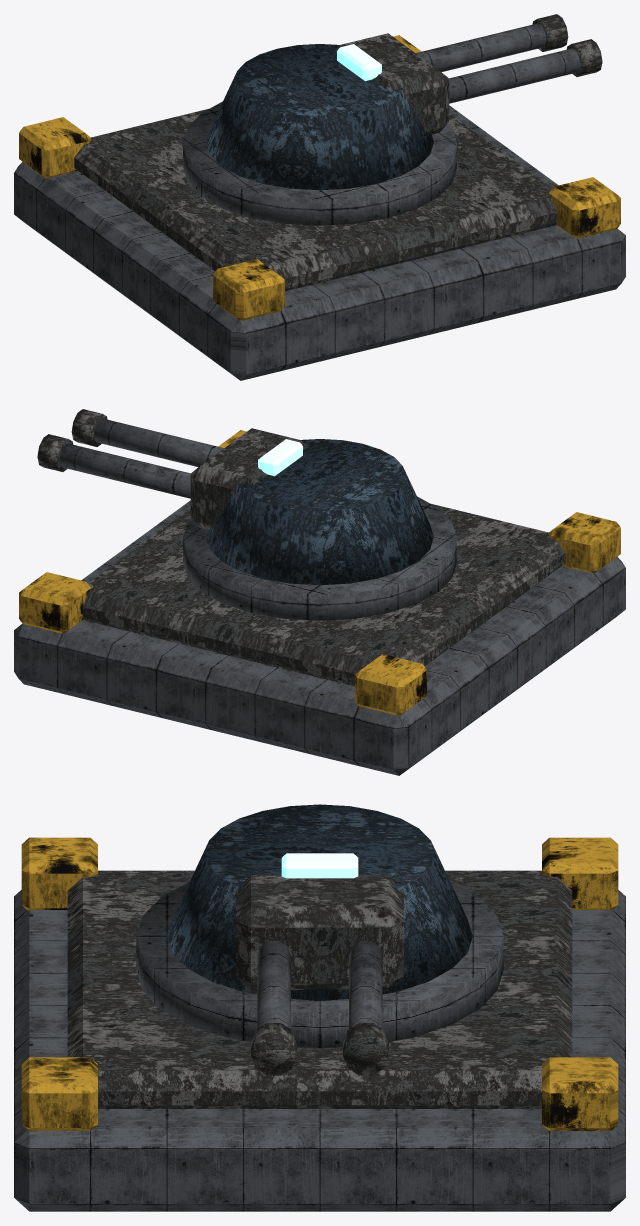
File: tower.glb
The picture shows the model from 3 angles, top to bottom: view 1: azimuth 30°, elevation 25°; view 2: azimuth 150°, elevation 25°; view 3: azimuth 270°, elevation 25°; orthographic projection. The views are drawn at different scales.
Visible parts, largest first — view 1: base, base_top, dome, ring, mantlet, corner, barrel-1, corner.001, corner.002, barrel1, sensor, muzzle-1 (+1 smaller); view 2: base, base_top, dome, ring, mantlet, corner.002, barrel1, corner.003, corner, barrel-1, sensor, muzzle1 (+1 smaller); view 3: base, base_top, dome, ring, mantlet, corner.001, corner.003, corner, corner.002, barrel1, barrel-1, muzzle1 (+2 smaller).
Boxes of the visible parts, <box> form: base: <box>14,105,625,380</box>; base_top: <box>74,109,557,291</box>; dome: <box>206,44,433,190</box>; ring: <box>183,101,456,225</box>; mantlet: <box>334,33,449,134</box>; corner: <box>213,259,284,320</box>; barrel-1: <box>449,48,580,103</box>; corner.001: <box>549,177,620,238</box>; corner.002: <box>19,117,90,178</box>; barrel1: <box>416,23,546,72</box>; sensor: <box>337,44,381,81</box>; muzzle-1: <box>566,39,602,76</box>; base: <box>14,500,625,775</box>; base_top: <box>82,504,565,686</box>; dome: <box>206,439,433,585</box>; ring: <box>183,496,456,620</box>; mantlet: <box>190,428,305,529</box>; corner.002: <box>355,654,426,715</box>; barrel1: <box>59,443,190,498</box>; corner.003: <box>19,572,90,633</box>; corner: <box>549,512,620,573</box>; barrel-1: <box>93,418,223,467</box>; sensor: <box>258,439,302,476</box>; muzzle1: <box>37,434,73,471</box>; base: <box>14,890,625,1211</box>; base_top: <box>67,870,572,1108</box>; dome: <box>167,804,472,1000</box>; ring: <box>136,881,503,1048</box>; mantlet: <box>236,875,403,990</box>; corner.001: <box>21,1057,97,1130</box>; corner.003: <box>542,1057,618,1130</box>; corner: <box>21,837,97,910</box>; corner.002: <box>542,837,618,910</box>; barrel1: <box>349,941,382,1028</box>; barrel-1: <box>257,941,290,1028</box>; muzzle1: <box>343,1023,388,1075</box>.
Bounding box in the file's own units: 92 × 37 × 80.
5 materials, 4 textured.
